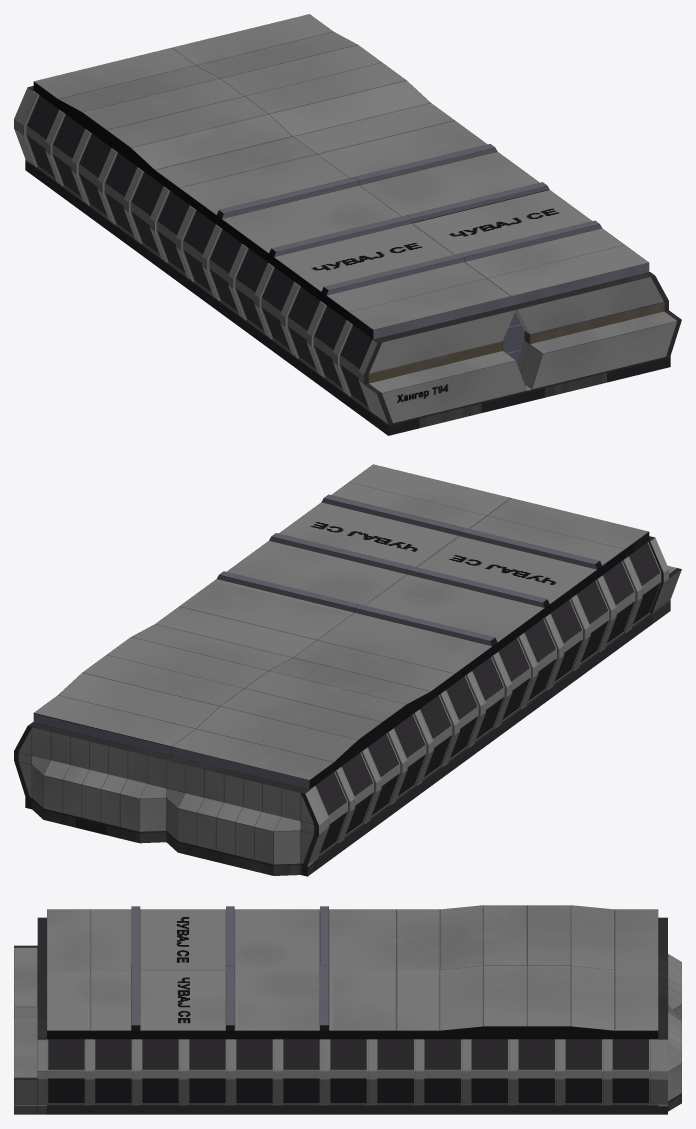
The model's file is SSCHangar1.fbx.
3 renders of one model, top to bottom at view 1: azimuth 30°, elevation 25°; view 2: azimuth 150°, elevation 25°; view 3: azimuth 270°, elevation 25°, orthographic. The views are drawn at different scales.
Parts seen in each view (by area): view 1: SSCHangar1_RoofRight, SSCHangar1_RoofLeft, SSCHangar1_Front_LOD0, SSCHangar1_Base_LOD0; view 2: SSCHangar1_RoofRight, SSCHangar1_RoofLeft, SSCHangar1_Front_LOD0, SSCHangar1_Base_LOD0; view 3: SSCHangar1_Base_LOD0, SSCHangar1_RoofLeft, SSCHangar1_RoofRight, SSCHangar1_Front_LOD0.
Boxes of the visible parts, bbox=[...] form: SSCHangar1_RoofRight: bbox=[33, 47, 511, 339]; SSCHangar1_RoofLeft: bbox=[172, 14, 649, 305]; SSCHangar1_Front_LOD0: bbox=[14, 86, 681, 435]; SSCHangar1_Base_LOD0: bbox=[19, 91, 524, 421]; SSCHangar1_RoofRight: bbox=[171, 498, 649, 789]; SSCHangar1_RoofLeft: bbox=[33, 464, 510, 755]; SSCHangar1_Front_LOD0: bbox=[14, 536, 681, 876]; SSCHangar1_Base_LOD0: bbox=[33, 542, 661, 872]; SSCHangar1_Base_LOD0: bbox=[47, 1039, 658, 1114]; SSCHangar1_RoofLeft: bbox=[47, 965, 658, 1039]; SSCHangar1_RoofRight: bbox=[47, 905, 658, 969]; SSCHangar1_Front_LOD0: bbox=[14, 917, 681, 1114].
Size of what is drawn, in the model's own units: 67400 by 20400 by 142000.
